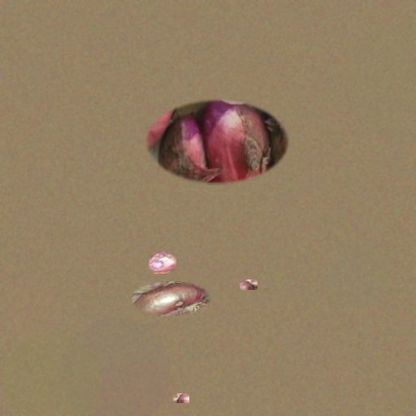damaged: (142, 98, 292, 185)
healthy: (130, 281, 211, 316)
rotten: (147, 251, 176, 274)
sprouted: (240, 279, 258, 290), (173, 393, 189, 403)
